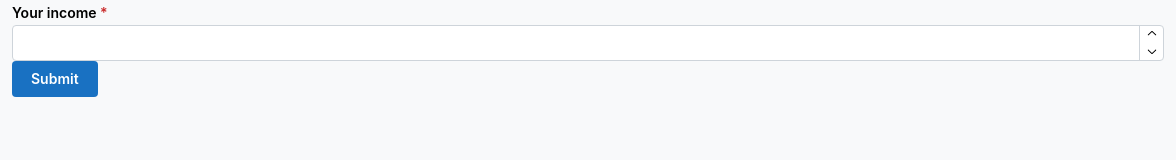
Test: ControlledCurrencyInput › keeps cents the user enters
Type "1234.56" into the field labelled "Your income *" at (588, 43), box [12,25,1164,61]
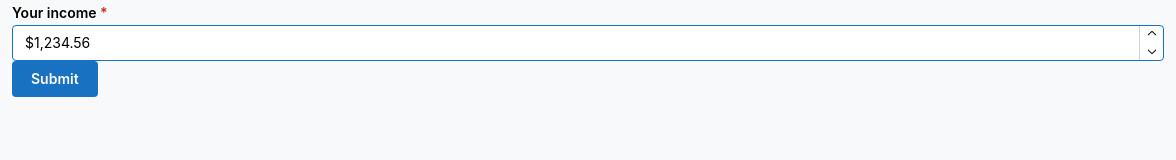
Now the field labelled "Your income *" holds "$1,234.56", box [12,25,1164,61]
